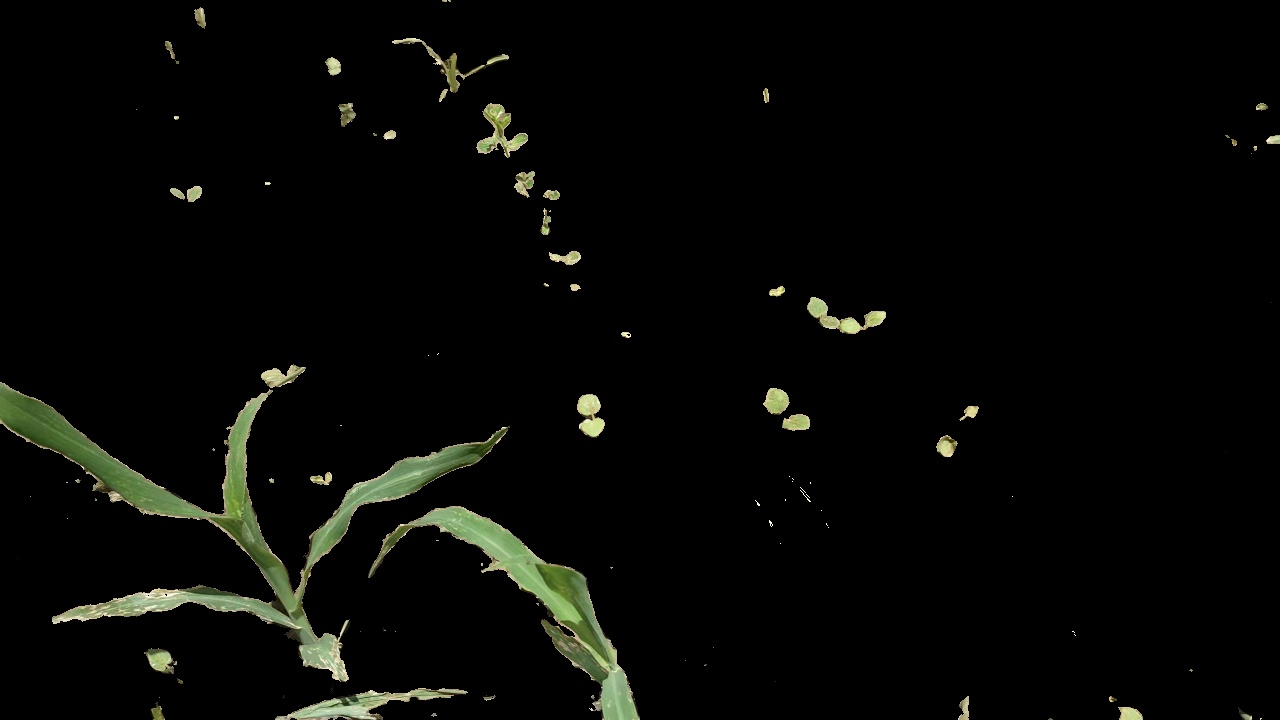crop: (1, 362, 364, 700), (371, 498, 643, 720)
weed: (796, 298, 901, 339), (936, 394, 982, 478), (761, 375, 813, 445), (561, 389, 612, 437), (478, 108, 526, 155), (163, 185, 209, 208), (543, 249, 585, 269), (513, 170, 538, 195)
